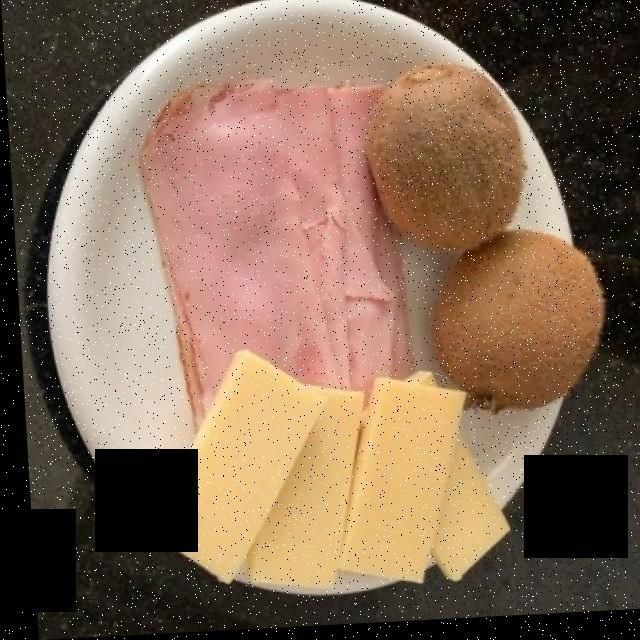cheese: (147, 359, 514, 590)
ham: (146, 85, 413, 411)
kiwi: (366, 70, 593, 411)
